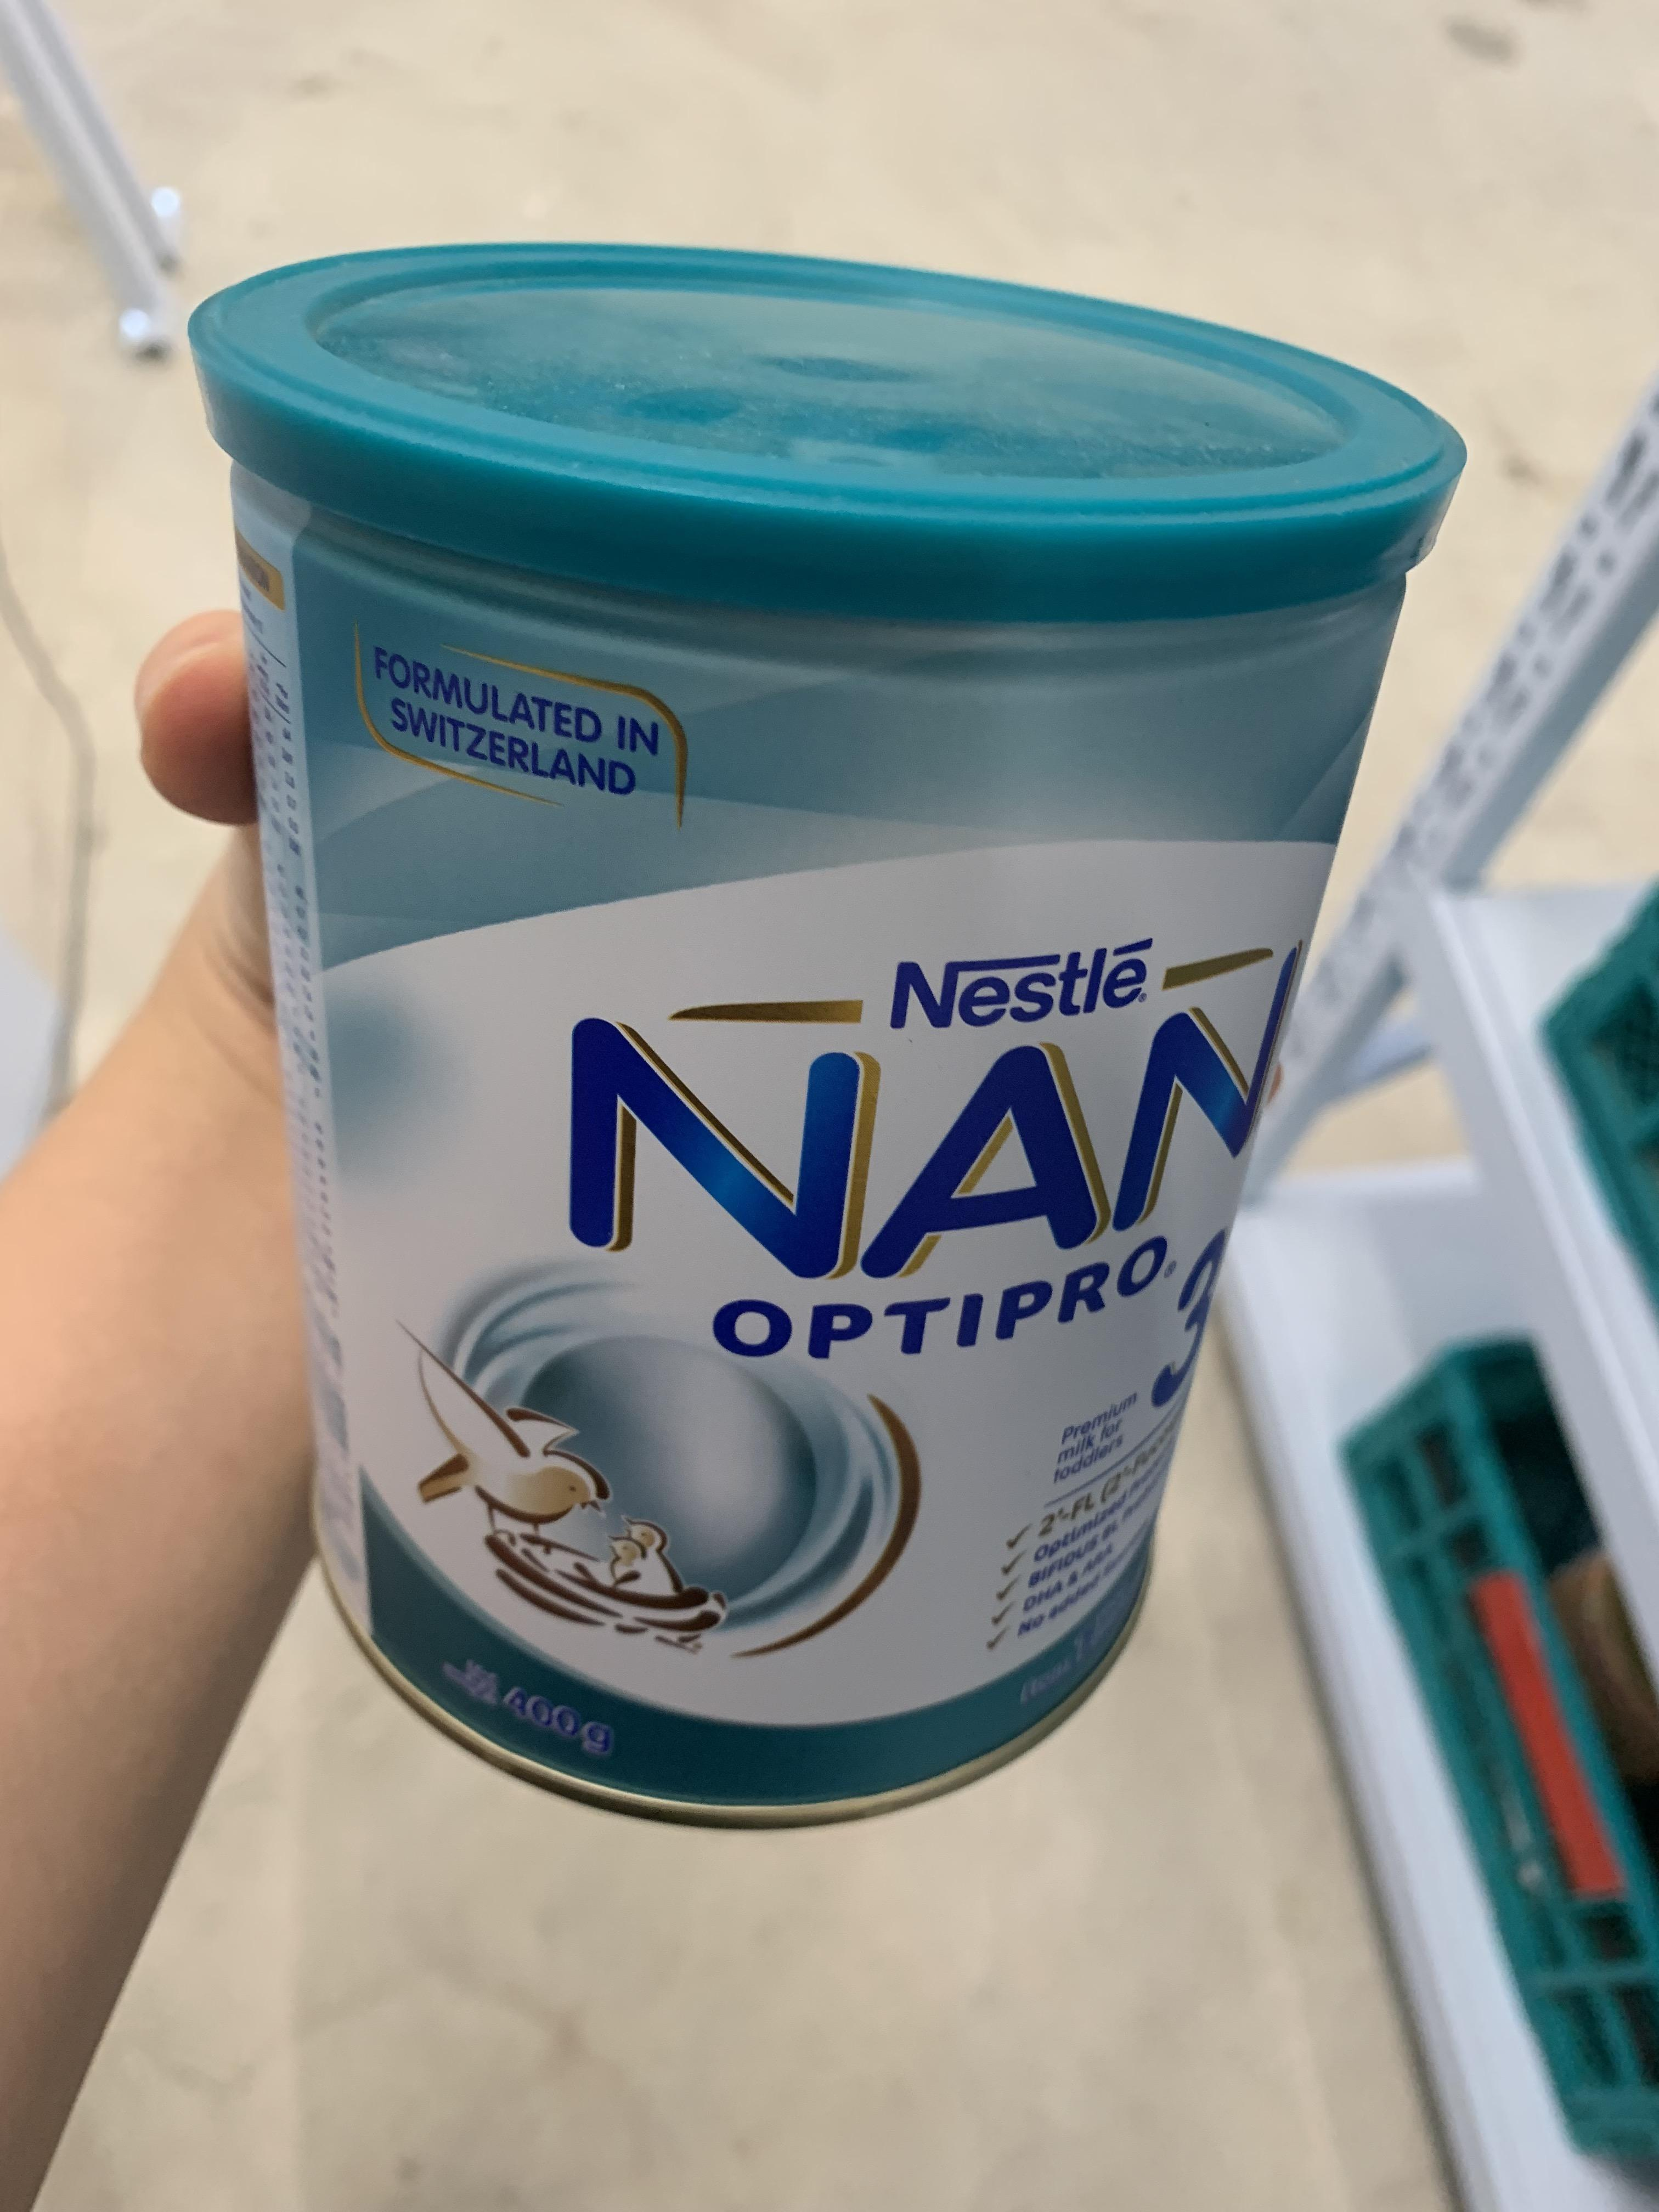object_name: (277, 505, 1152, 1658)
